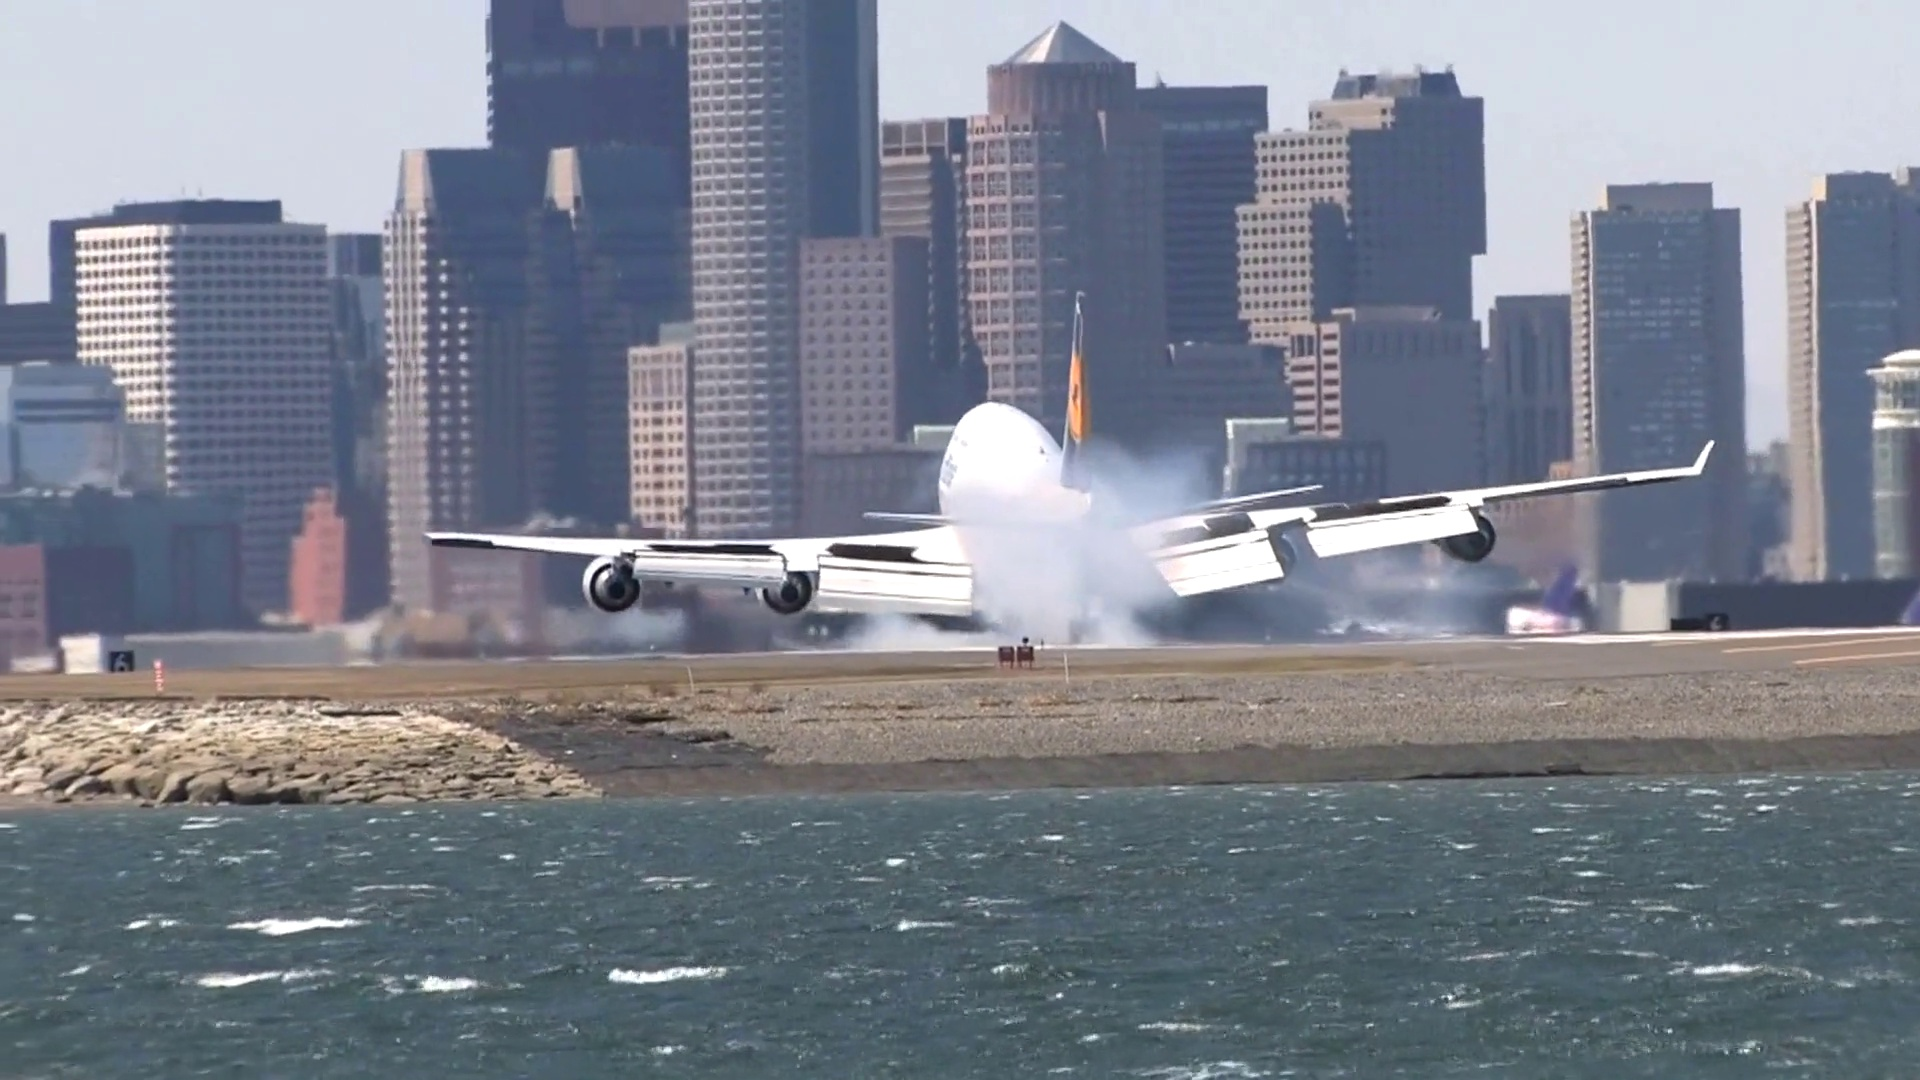plane: (422, 290, 1716, 638)
